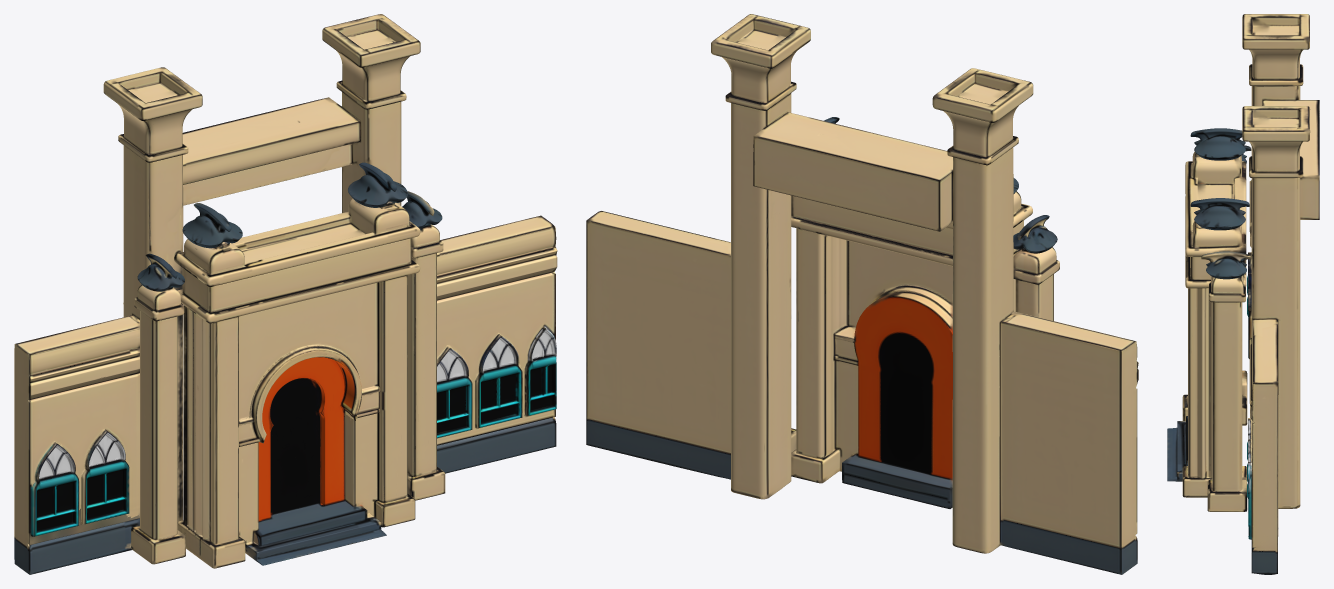
The model's file is istana_siak.glb.
3 renders of one model, left to right at view 1: azimuth 30°, elevation 25°; view 2: azimuth 150°, elevation 25°; view 3: azimuth 270°, elevation 25°, orthographic. The views are drawn at different scales.
Visible parts, largest first — view 1: convert; view 2: convert; view 3: convert.
Boxes of the visible parts, left/top/right/bottom form: convert: left=14, top=14, right=557, bottom=574; convert: left=586, top=14, right=1138, bottom=574; convert: left=1167, top=14, right=1319, bottom=574.
Size of the model in its own units: 0.9319 by 0.7531 by 0.27.
Materials: 1 (1 with a texture image).
